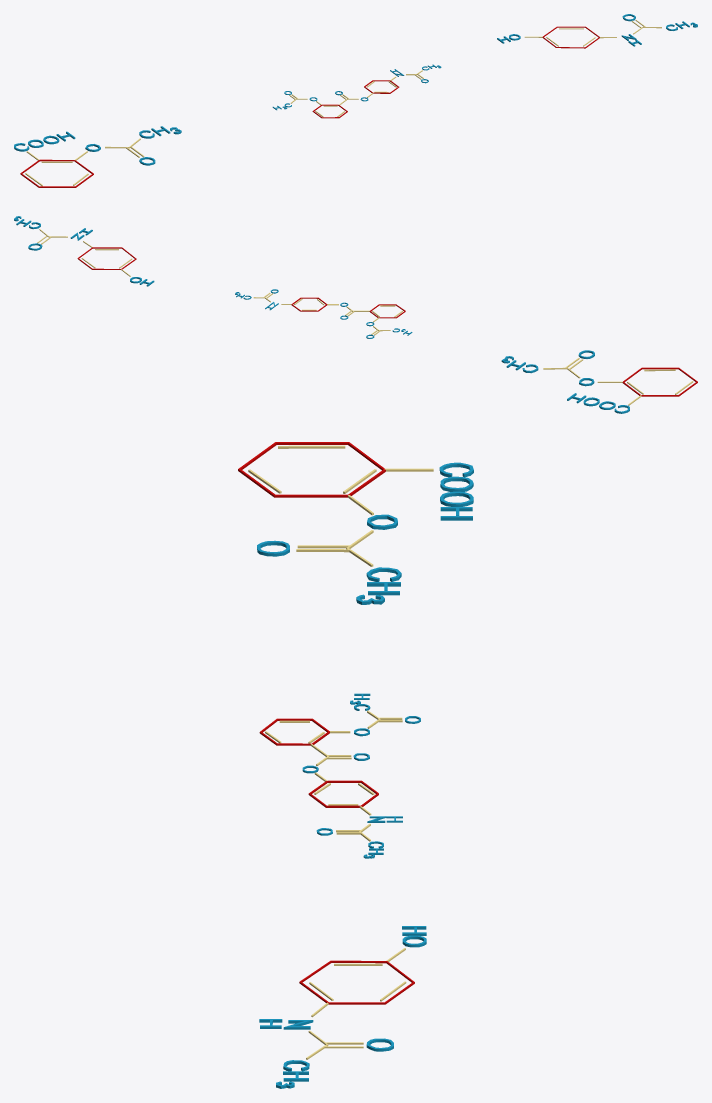
The model's file is 解热、镇痛药.FBX.
3 renders of one model, top to bottom at view 1: azimuth 30°, elevation 25°; view 2: azimuth 150°, elevation 25°; view 3: azimuth 270°, elevation 25°, orthographic. The views are drawn at different scales.
Parts seen in each view (by area): view 1: Line001; view 2: Line001; view 3: Line001.
Part boxes in pixels (<box>): Line001: <box>20,159,93,187</box>; Line001: <box>622,367,697,396</box>; Line001: <box>238,442,385,497</box>.
Bounding box in the file's own units: 191 × 0.4244 × 29.54.
